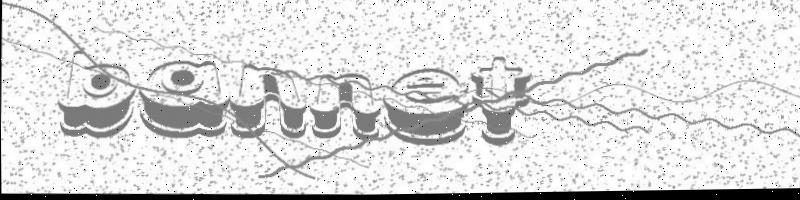a: (136, 58, 230, 140)
b: (54, 49, 137, 140)
e: (381, 67, 468, 149)
n: (229, 61, 309, 142), (307, 71, 382, 145)
t: (467, 56, 530, 149)
